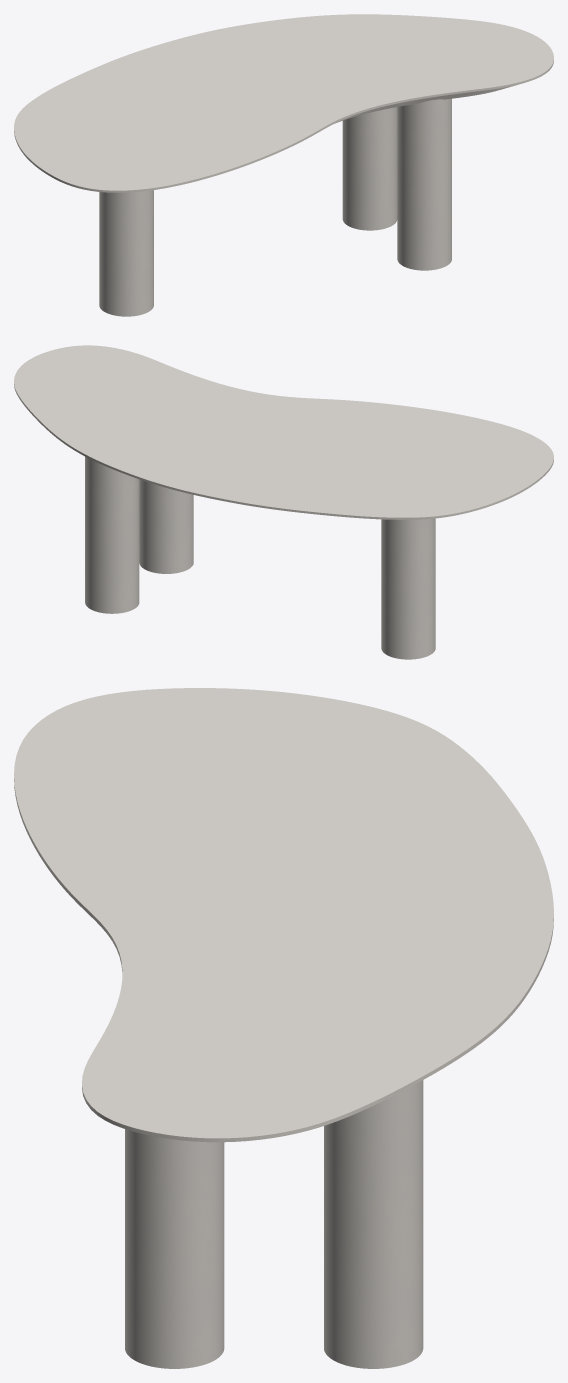
Rendered from pearlwhite_leaf1_facet_cylinder.glb.
3 views of the same model, one above another, from view 1: azimuth 30°, elevation 25°; view 2: azimuth 150°, elevation 25°; view 3: azimuth 270°, elevation 25° (orthographic). The views are drawn at different scales.
Parts seen in each view (by area): view 1: facet_leaf1, cylinder; view 2: facet_leaf1, cylinder; view 3: facet_leaf1, cylinder.
Part boxes in pixels (x1,y1,x2,y2): facet_leaf1: (14, 14, 553, 192); cylinder: (99, 98, 451, 316); facet_leaf1: (14, 345, 553, 519); cylinder: (85, 456, 435, 659); facet_leaf1: (14, 688, 553, 1142); cylinder: (125, 1080, 423, 1368).
Size of the model in its own units: 7.5 by 2.52 by 3.8.
1 material, 1 textured.
